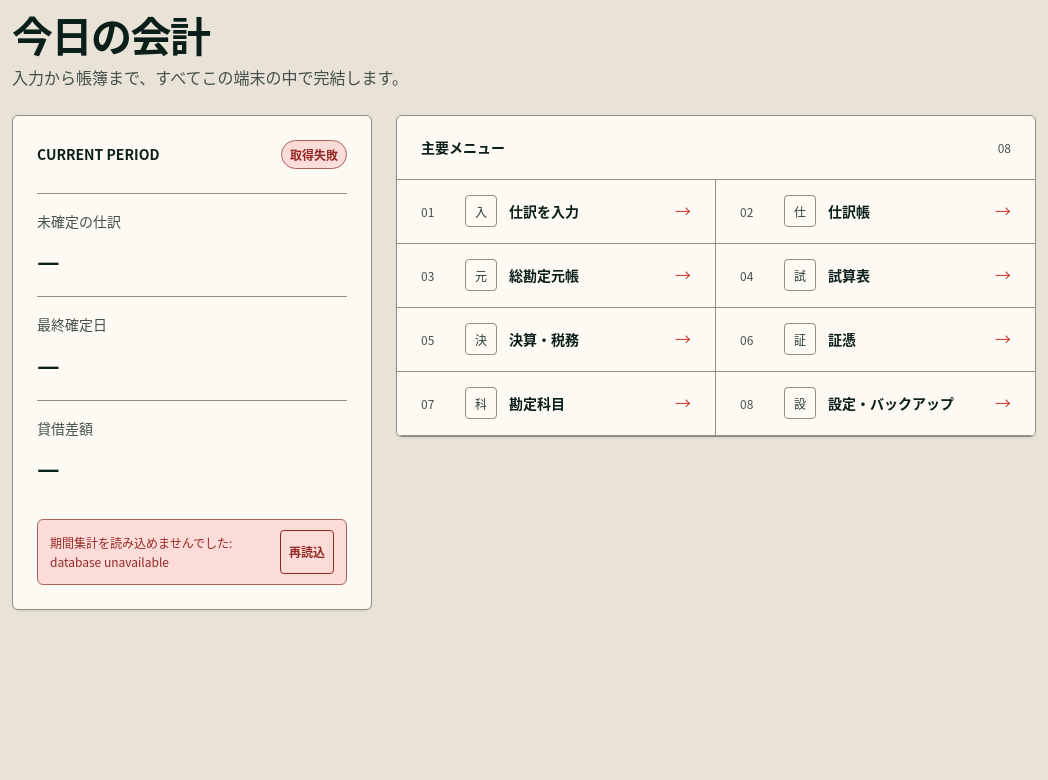
Test: 集計の取得に失敗したとき再読込できる
Check: the message shows "database unavailable", box left=50, top=534, right=232, bottom=570
Click the button "再読込" at point(307, 552), box left=280, top=530, right=334, bottom=574
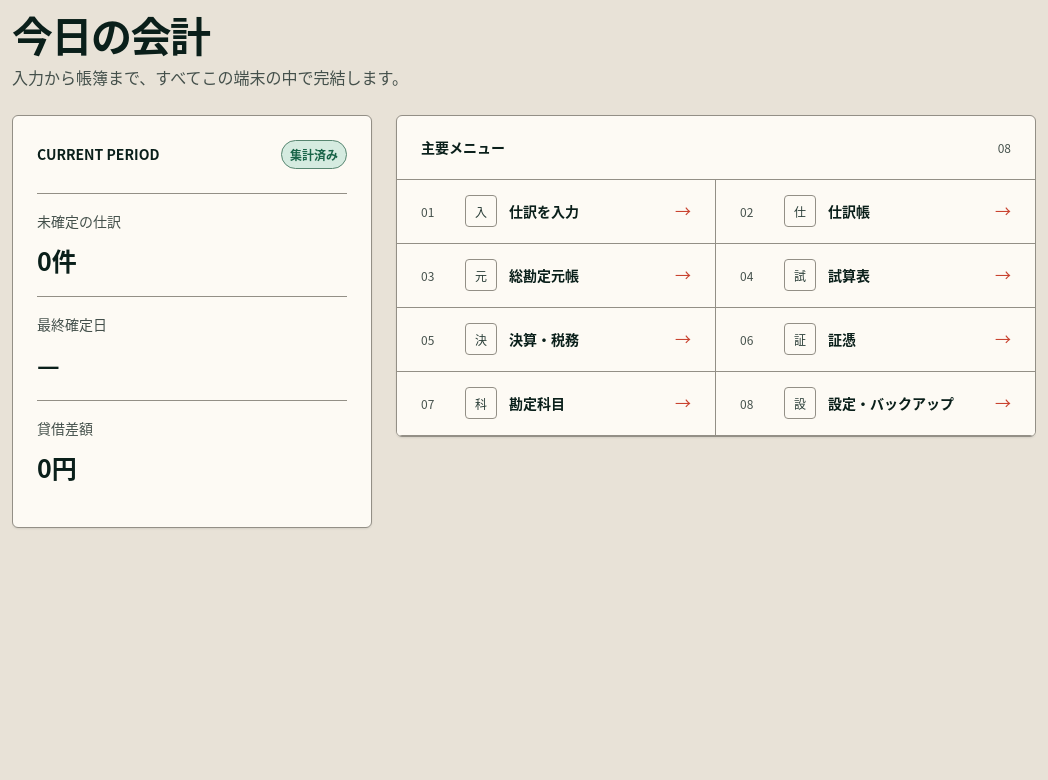
Check: the text "集計済み" is shown, box left=281, top=140, right=347, bottom=169
Check: the text "0件" is shown, box left=37, top=242, right=77, bottom=278
